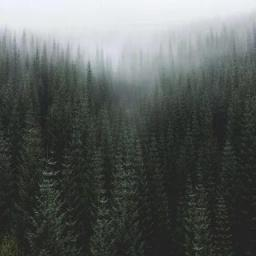Heavy smoke: (1, 2, 256, 75)
